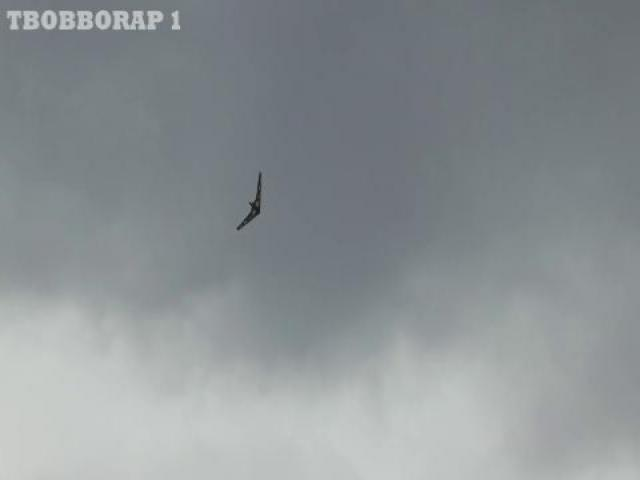flying wing: (236, 172, 264, 231)
